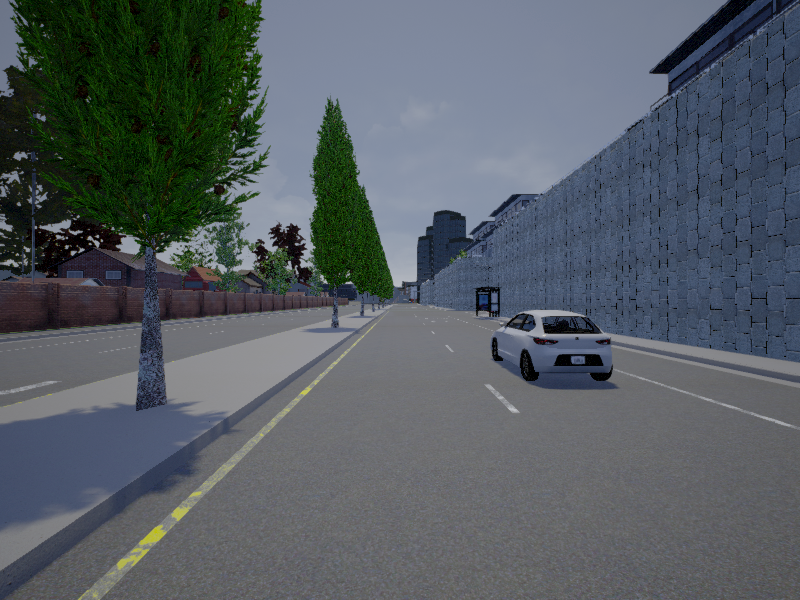Benign: (491, 312, 614, 386)
